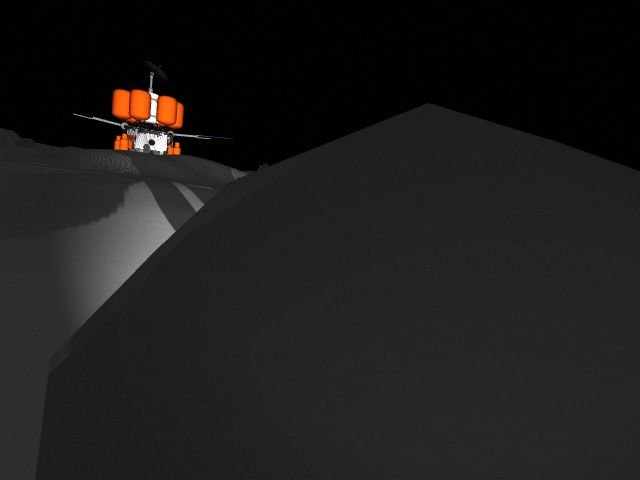homebase: (65, 59, 237, 169)
